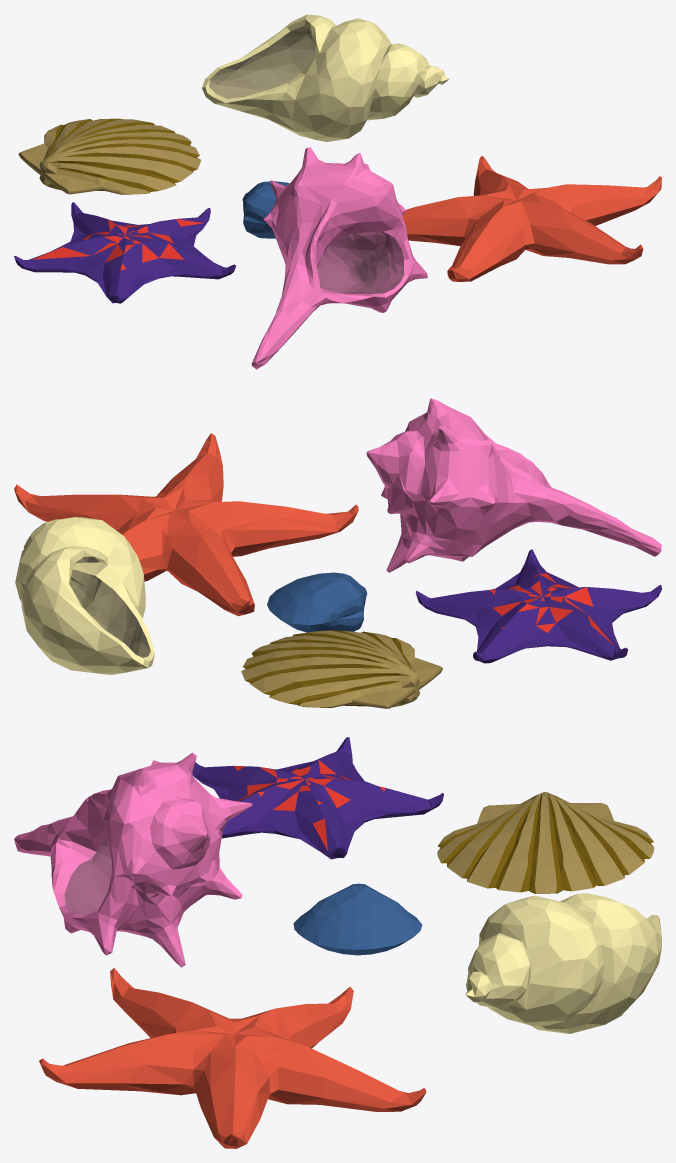
File: Clams.fbx
3 renders of one model, top to bottom at view 1: azimuth 30°, elevation 25°; view 2: azimuth 150°, elevation 25°; view 3: azimuth 270°, elevation 25°, orthographic. The views are drawn at different scales.
Visible parts, largest first — view 1: Conch, Conch.001, Asterias, Scallop, Starfish, Clam; view 2: Conch, Asterias, Conch.001, Starfish, Scallop, Clam; view 3: Asterias, Conch, Conch.001, Scallop, Starfish, Clam.
Part boxes in pixels (left/top/right/bottom): Conch: left=251, top=147, right=427, bottom=369; Conch.001: left=202, top=14, right=449, bottom=141; Asterias: left=403, top=156, right=661, bottom=281; Scallop: left=18, top=118, right=201, bottom=194; Starfish: left=14, top=202, right=235, bottom=303; Clam: left=242, top=181, right=289, bottom=238; Conch: left=366, top=398, right=661, bottom=572; Asterias: left=14, top=433, right=358, bottom=616; Conch.001: left=15, top=517, right=154, bottom=674; Starfish: left=416, top=549, right=661, bottom=663; Scallop: left=241, top=630, right=442, bottom=708; Clam: left=267, top=572, right=367, bottom=632; Asterias: left=39, top=968, right=426, bottom=1148; Conch: left=14, top=752, right=252, bottom=967; Conch.001: left=465, top=893, right=661, bottom=1033; Scallop: left=437, top=792, right=654, bottom=893; Starfish: left=192, top=737, right=443, bottom=859; Clam: left=293, top=883, right=422, bottom=955.
Size of the model in its own units: 96.93 by 25.72 by 74.23.
